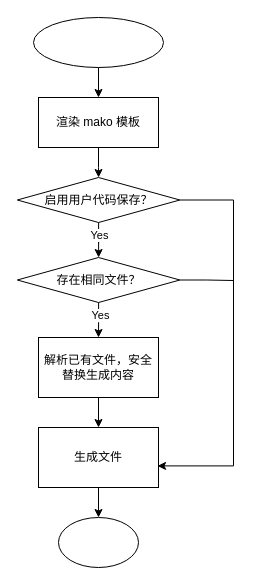
The diagram is 260 pixels wide and 585 high, and some of its shapes have lost their labels. Each missing label, with the box of its shape:
code_from_model: (32, 16, 164, 68)
end: (58, 516, 138, 568)
